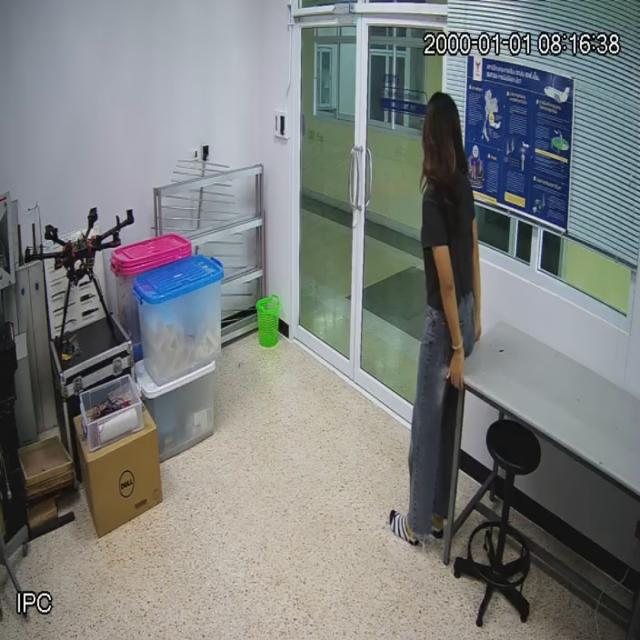normal: (398, 92, 483, 544)
